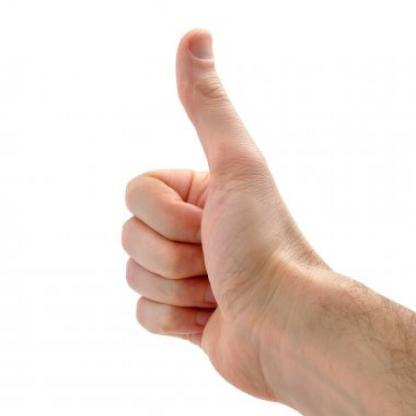thumb_up: (114, 16, 284, 372)
